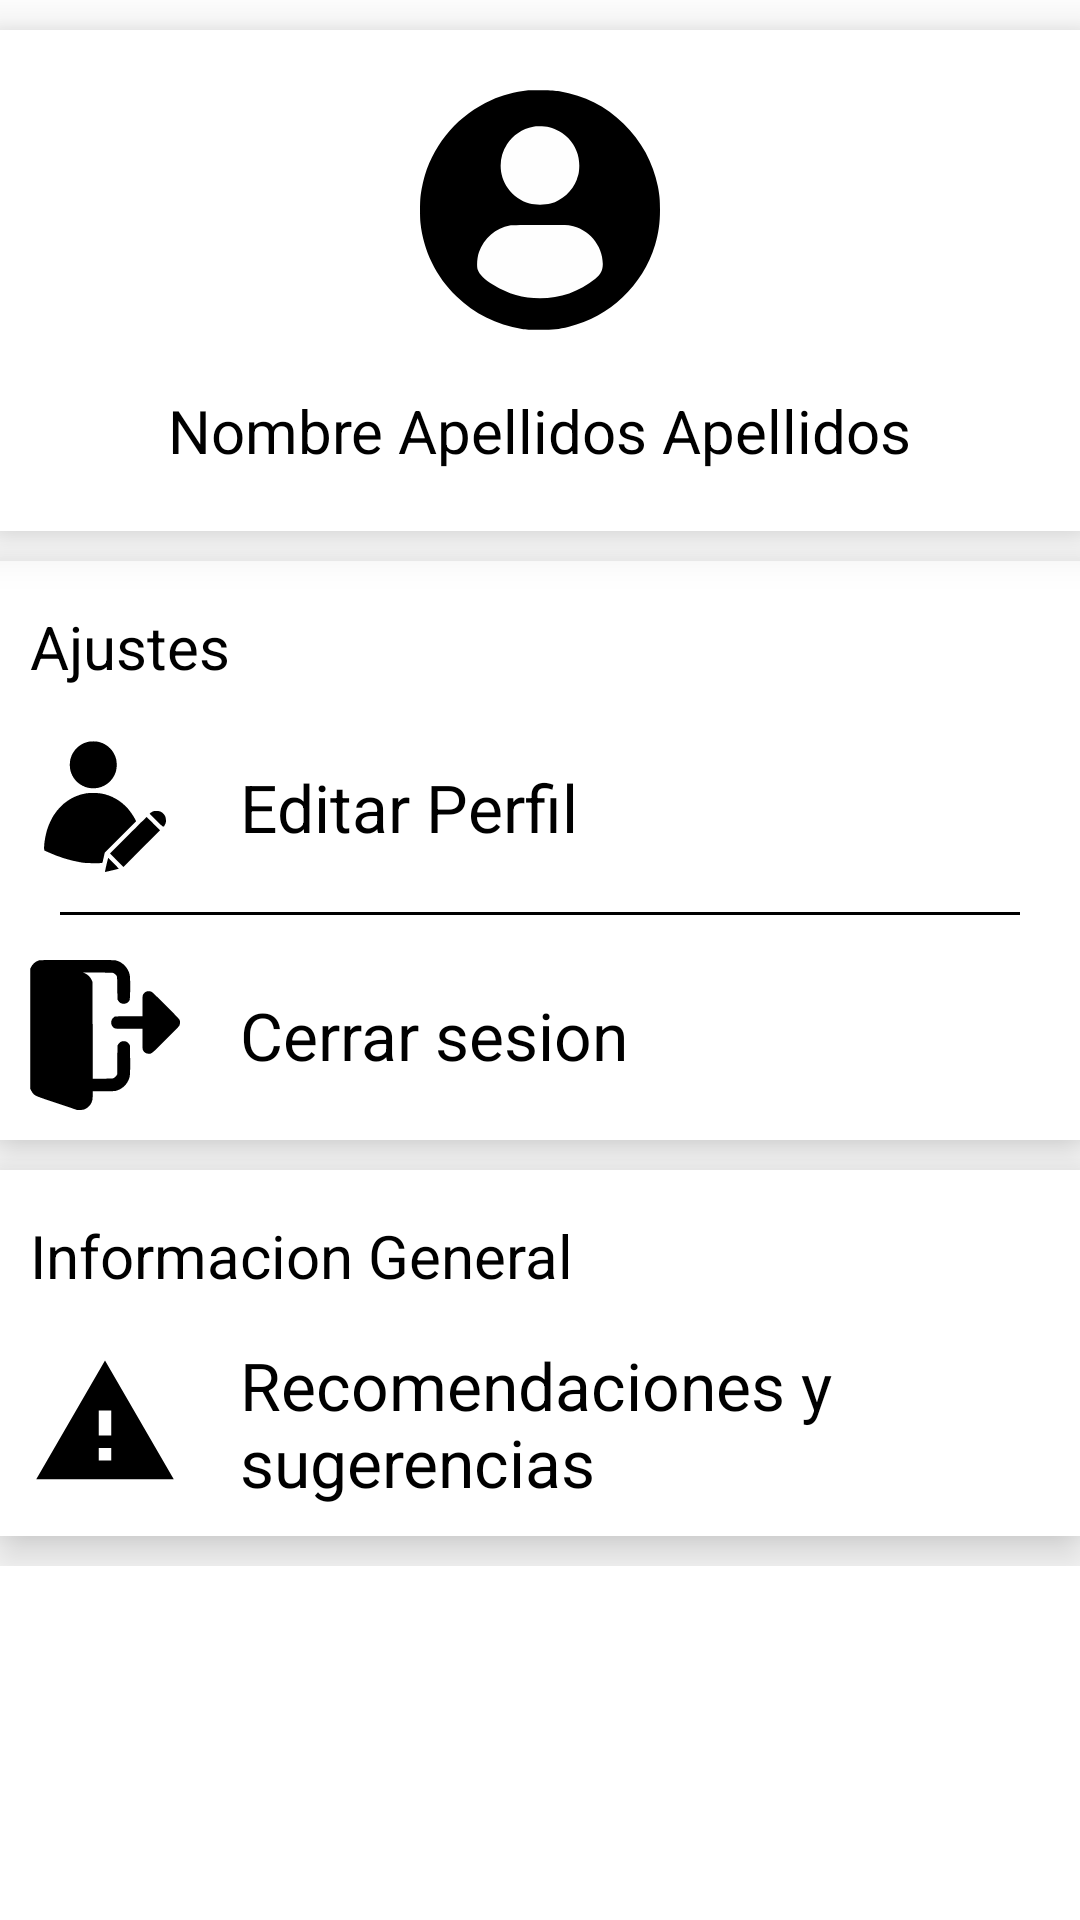

Icon bounding boxes for this 1080px x 1920px phone screenshot, format Rect(x1, y1, x2, y2):
profile user: Rect(420, 90, 660, 330)
warnig: Rect(36, 1361, 174, 1480)
